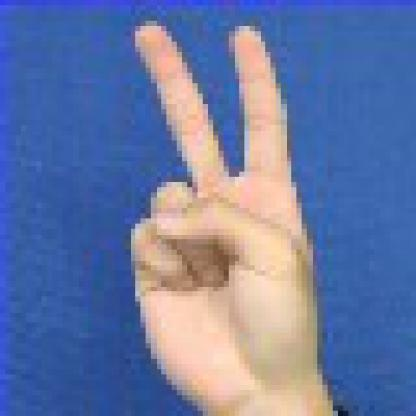two: (120, 15, 328, 410)
